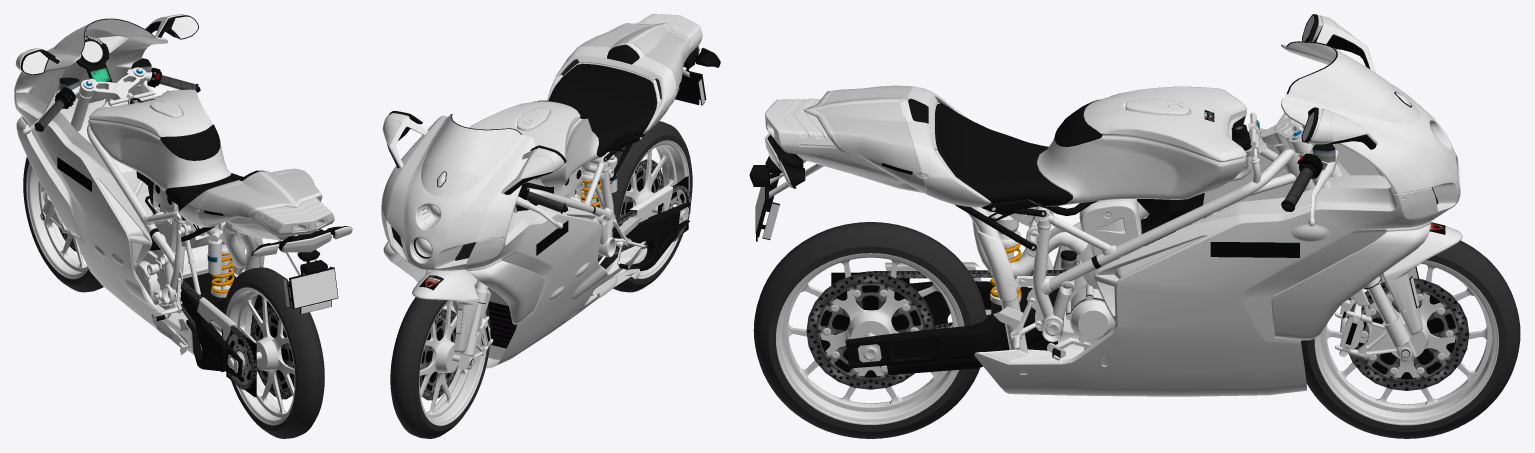
Rendered from vp_duc_999r_06.glb.
3 views of the same model, side by side, from view 1: azimuth 30°, elevation 25°; view 2: azimuth 150°, elevation 25°; view 3: azimuth 270°, elevation 25° (orthographic). The views are drawn at different scales.
Parts seen in each view (by area): view 1: vp_duc_999r_06/resources/vehicle/vp_duc_999r_06/body_lod_0.x (×8), vp_duc_999r_06/resources/vehicle/vp_duc_999r_06/bike_cowl0_l (×2), vp_duc_999r_06/resources/vehicle/vp_duc_999r_06/bike_tank0_l, shared/resources/tires/models/tir_bike@axl_rear/model0, vp_duc_999r_06/resources/vehicle/vp_duc_999r_06/bike_tail0_l, vp_duc_999r_06/resources/vehicle/vp_duc_999r_06/armrl0_lod_0 (×2), shared/resources/rims/whl_stk_duc_999r_06@axl_rear/model0, shared/resources/rims/whl_stk_duc_999r_06@axl_front/model0, shared/resources/brakes/brk_stk_duc_999r_06@axl_rear/model0, shared/resources/tires/models/tir_bike@axl_front/model0; view 2: vp_duc_999r_06/resources/vehicle/vp_duc_999r_06/bike_cowl0_l (×3), vp_duc_999r_06/resources/vehicle/vp_duc_999r_06/body_lod_0.x (×7), vp_duc_999r_06/resources/vehicle/vp_duc_999r_06/bike_tail0_l, vp_duc_999r_06/resources/vehicle/vp_duc_999r_06/bike_tank0_l, shared/resources/tires/models/tir_bike@axl_front/model0, shared/resources/rims/whl_stk_duc_999r_06@axl_front/model0, vp_duc_999r_06/resources/vehicle/vp_duc_999r_06/armrl0_lod_0 (×2), shared/resources/tires/models/tir_bike@axl_rear/model0, shared/resources/rims/whl_stk_duc_999r_06@axl_rear/model0, shared/resources/brakes/brk_stk_duc_999r_06@axl_front/model0, shared/resources/brakes/brk_stk_duc_999r_06@axl_rear/model0, vp_duc_999r_06/resources/vehicle/vp_duc_999r_06/armfl0_lod_0; view 3: vp_duc_999r_06/resources/vehicle/vp_duc_999r_06/bike_cowl0_l (×2), vp_duc_999r_06/resources/vehicle/vp_duc_999r_06/body_lod_0.x (×7), vp_duc_999r_06/resources/vehicle/vp_duc_999r_06/bike_tank0_l, shared/resources/tires/models/tir_bike@axl_rear/model0, vp_duc_999r_06/resources/vehicle/vp_duc_999r_06/bike_tail0_l, shared/resources/rims/whl_stk_duc_999r_06@axl_rear/model0, vp_duc_999r_06/resources/vehicle/vp_duc_999r_06/armrl0_lod_0, shared/resources/rims/whl_stk_duc_999r_06@axl_front/model0, shared/resources/tires/models/tir_bike@axl_front/model0, shared/resources/brakes/brk_stk_duc_999r_06@axl_rear/model0, shared/resources/brakes/brk_stk_duc_999r_06@axl_front/model0, vp_duc_999r_06/resources/vehicle/vp_duc_999r_06/armfl0_lod_0.
Part boxes in pixels (bbox=[...]): vp_duc_999r_06/resources/vehicle/vp_duc_999r_06/body_lod_0.x (×8): bbox=[22, 35, 352, 397]; vp_duc_999r_06/resources/vehicle/vp_duc_999r_06/bike_cowl0_l (×2): bbox=[14, 14, 221, 354]; vp_duc_999r_06/resources/vehicle/vp_duc_999r_06/bike_tank0_l: bbox=[88, 89, 231, 192]; shared/resources/tires/models/tir_bike@axl_rear/model0: bbox=[221, 267, 324, 438]; vp_duc_999r_06/resources/vehicle/vp_duc_999r_06/bike_tail0_l: bbox=[179, 168, 322, 227]; vp_duc_999r_06/resources/vehicle/vp_duc_999r_06/armrl0_lod_0 (×2): bbox=[180, 270, 272, 389]; shared/resources/rims/whl_stk_duc_999r_06@axl_rear/model0: bbox=[226, 287, 295, 425]; shared/resources/rims/whl_stk_duc_999r_06@axl_front/model0: bbox=[26, 162, 88, 279]; shared/resources/brakes/brk_stk_duc_999r_06@axl_rear/model0: bbox=[250, 306, 294, 399]; shared/resources/tires/models/tir_bike@axl_front/model0: bbox=[23, 157, 103, 292]; vp_duc_999r_06/resources/vehicle/vp_duc_999r_06/bike_cowl0_l (×3): bbox=[381, 111, 645, 368]; vp_duc_999r_06/resources/vehicle/vp_duc_999r_06/body_lod_0.x (×7): bbox=[412, 14, 720, 358]; vp_duc_999r_06/resources/vehicle/vp_duc_999r_06/bike_tail0_l: bbox=[547, 23, 689, 133]; vp_duc_999r_06/resources/vehicle/vp_duc_999r_06/bike_tank0_l: bbox=[469, 100, 600, 186]; shared/resources/tires/models/tir_bike@axl_front/model0: bbox=[390, 286, 490, 438]; shared/resources/rims/whl_stk_duc_999r_06@axl_front/model0: bbox=[419, 300, 486, 425]; vp_duc_999r_06/resources/vehicle/vp_duc_999r_06/armrl0_lod_0 (×2): bbox=[581, 184, 690, 271]; shared/resources/tires/models/tir_bike@axl_rear/model0: bbox=[596, 121, 692, 292]; shared/resources/rims/whl_stk_duc_999r_06@axl_rear/model0: bbox=[619, 140, 689, 278]; shared/resources/brakes/brk_stk_duc_999r_06@axl_front/model0: bbox=[419, 309, 460, 400]; shared/resources/brakes/brk_stk_duc_999r_06@axl_rear/model0: bbox=[620, 159, 663, 247]; vp_duc_999r_06/resources/vehicle/vp_duc_999r_06/armfl0_lod_0: bbox=[458, 303, 483, 369]; vp_duc_999r_06/resources/vehicle/vp_duc_999r_06/bike_cowl0_l (×2): bbox=[974, 14, 1460, 396]; vp_duc_999r_06/resources/vehicle/vp_duc_999r_06/body_lod_0.x (×7): bbox=[749, 98, 1462, 360]; vp_duc_999r_06/resources/vehicle/vp_duc_999r_06/bike_tank0_l: bbox=[1036, 86, 1246, 206]; shared/resources/tires/models/tir_bike@axl_rear/model0: bbox=[753, 222, 986, 438]; vp_duc_999r_06/resources/vehicle/vp_duc_999r_06/bike_tail0_l: bbox=[804, 85, 991, 207]; shared/resources/rims/whl_stk_duc_999r_06@axl_rear/model0: bbox=[776, 253, 964, 424]; vp_duc_999r_06/resources/vehicle/vp_duc_999r_06/armrl0_lod_0: bbox=[845, 262, 1063, 375]; shared/resources/rims/whl_stk_duc_999r_06@axl_front/model0: bbox=[1314, 260, 1498, 425]; shared/resources/tires/models/tir_bike@axl_front/model0: bbox=[1301, 240, 1520, 438]; shared/resources/brakes/brk_stk_duc_999r_06@axl_rear/model0: bbox=[806, 273, 934, 389]; shared/resources/brakes/brk_stk_duc_999r_06@axl_front/model0: bbox=[1347, 278, 1469, 390]; vp_duc_999r_06/resources/vehicle/vp_duc_999r_06/armfl0_lod_0: bbox=[1367, 275, 1416, 362].
Size of the model in its own units: 0.7168 by 1.1 by 2.02.
55 materials, 18 textured.
